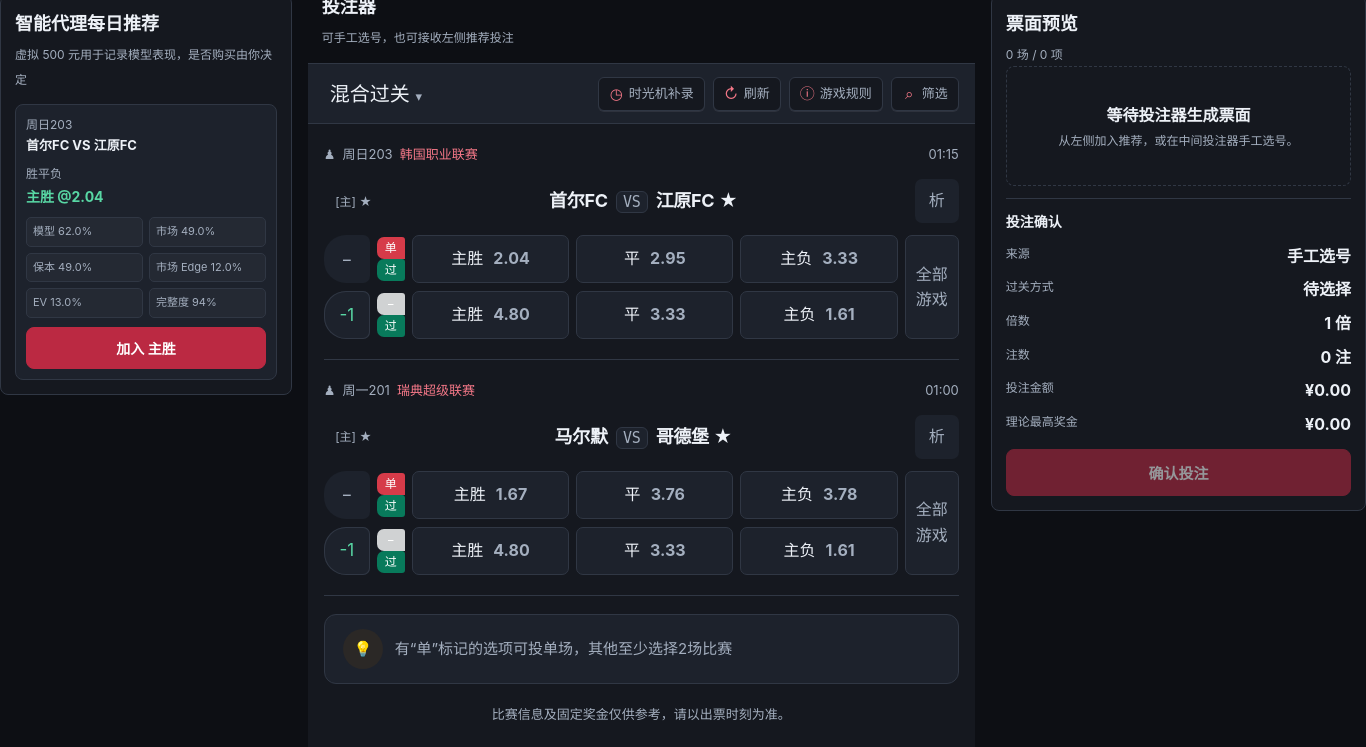
Scenario: BettingTerminalPage desktop workbench › archives a confirmed ticket and restores the default slip after completion
Step 1. Click the button with aria-label "胜平负 主胜 2.04" → click(490, 259), box [412,235,569,283]
(page scrolled)
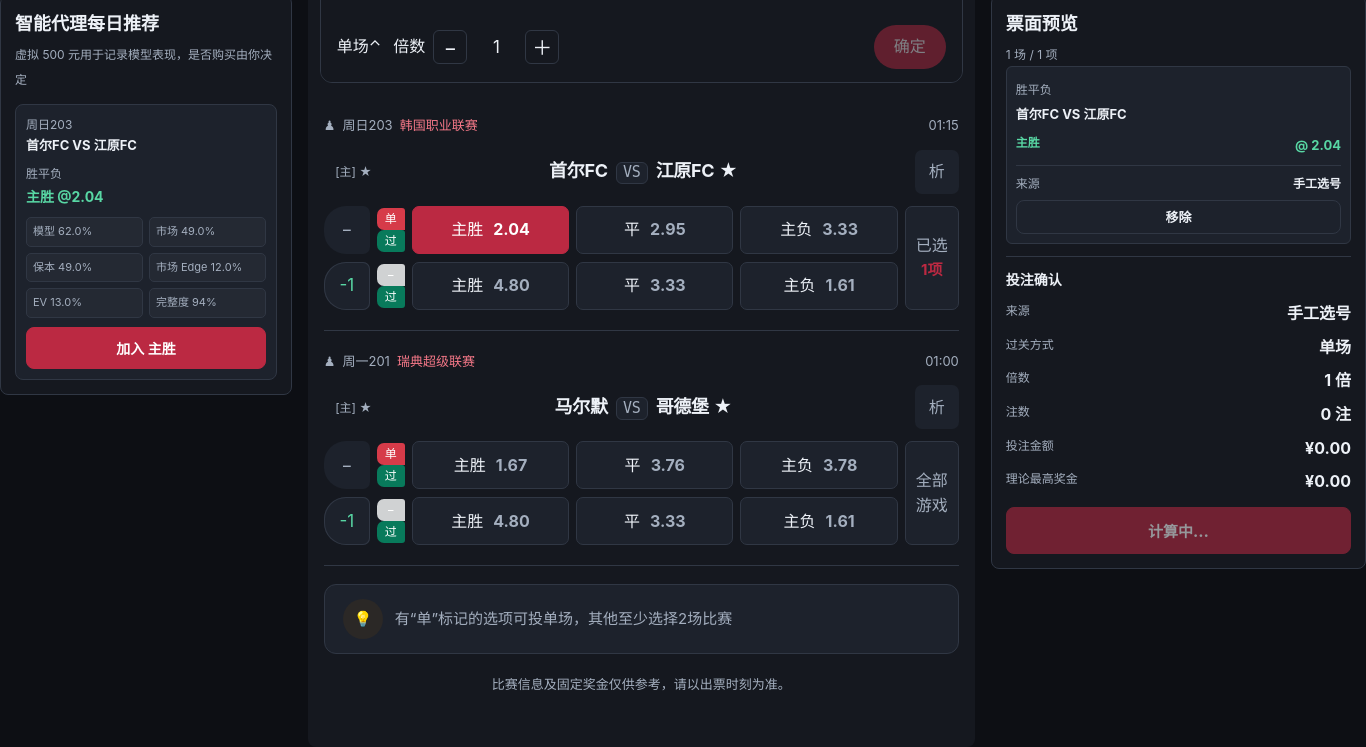
Step 2. Click the button with aria-label "胜平负 主胜 1.67" → click(490, 465), box [412,441,569,489]
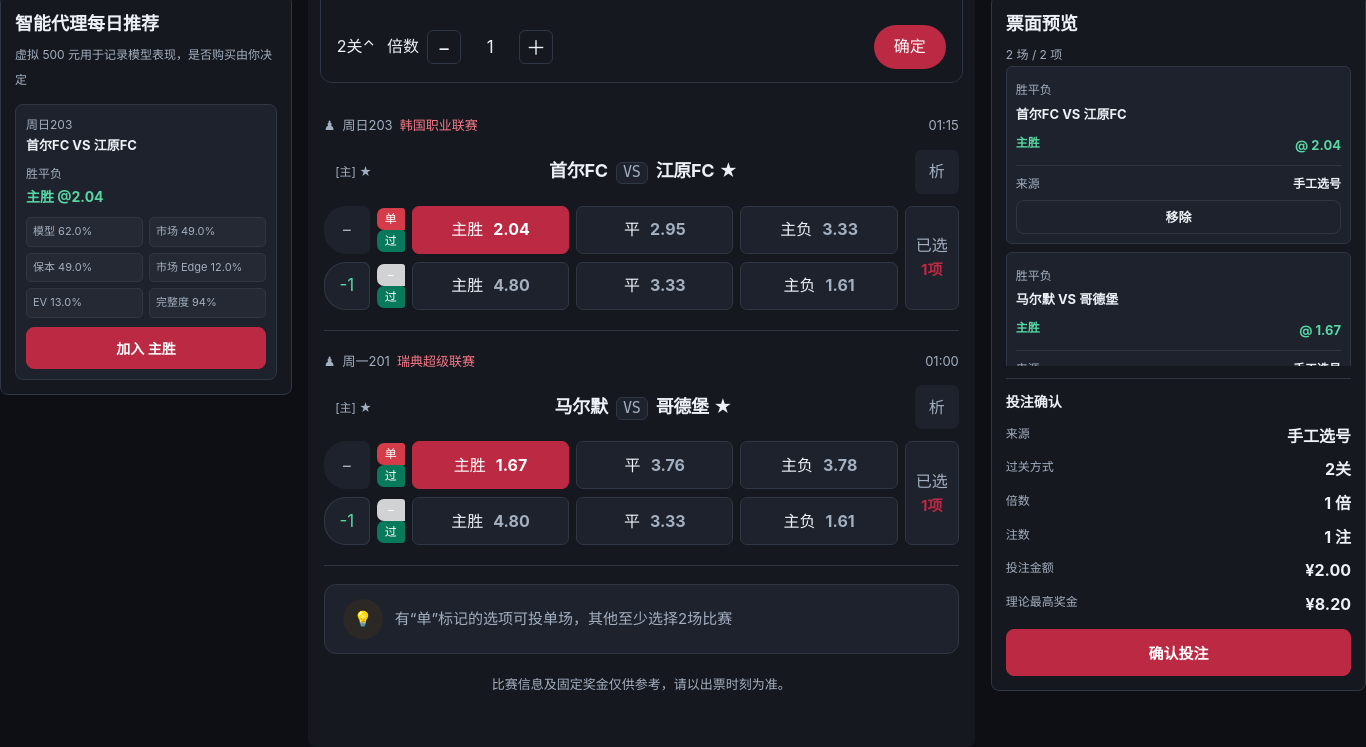
Step 3. Replace the text in the number field named "当前倍数" with "99" → (490, 47), box [469,36,511,58]
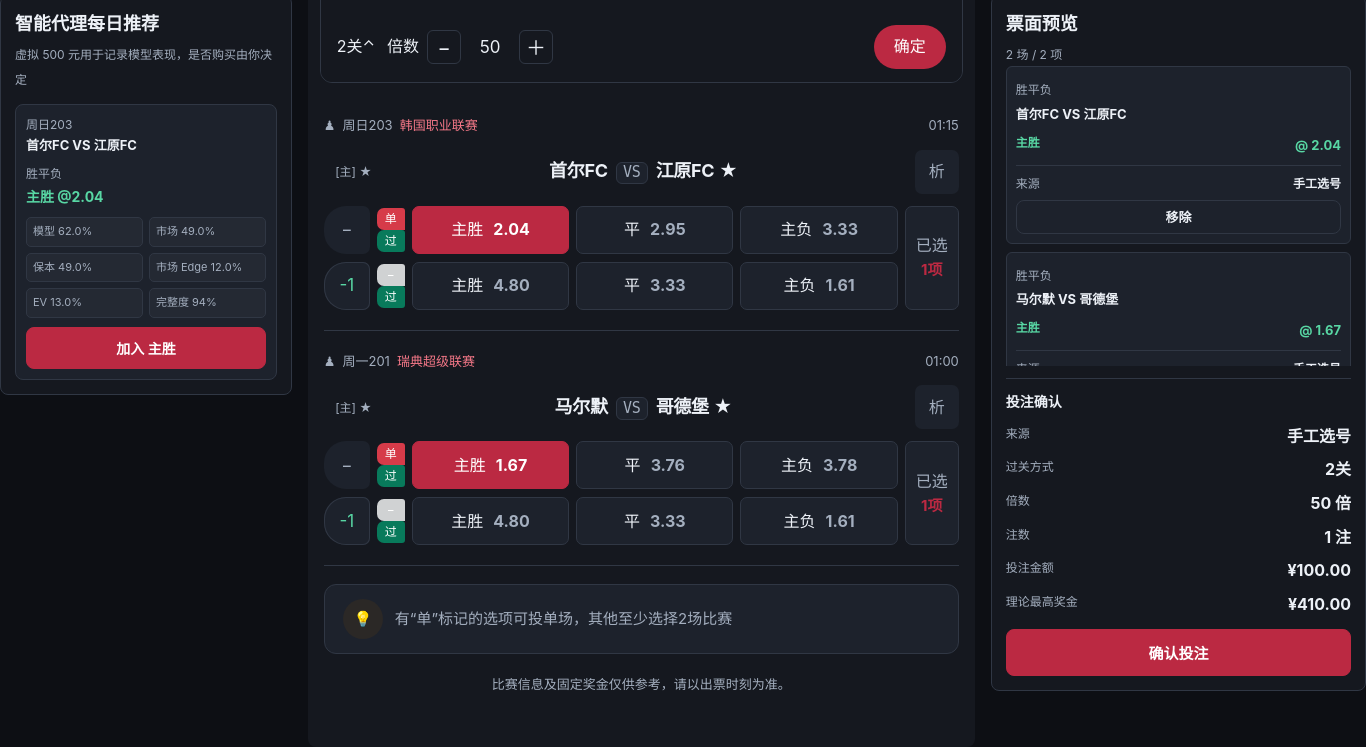
Expected: the button named "增加倍数" is disabled, [519,30,553,64]
Result: the button "确定" is enabled
Result: the number field named "当前倍数" holds "50" at [469,36,511,58]
Step 4. Click the button "确定" → click(910, 47), box [874,25,946,69]
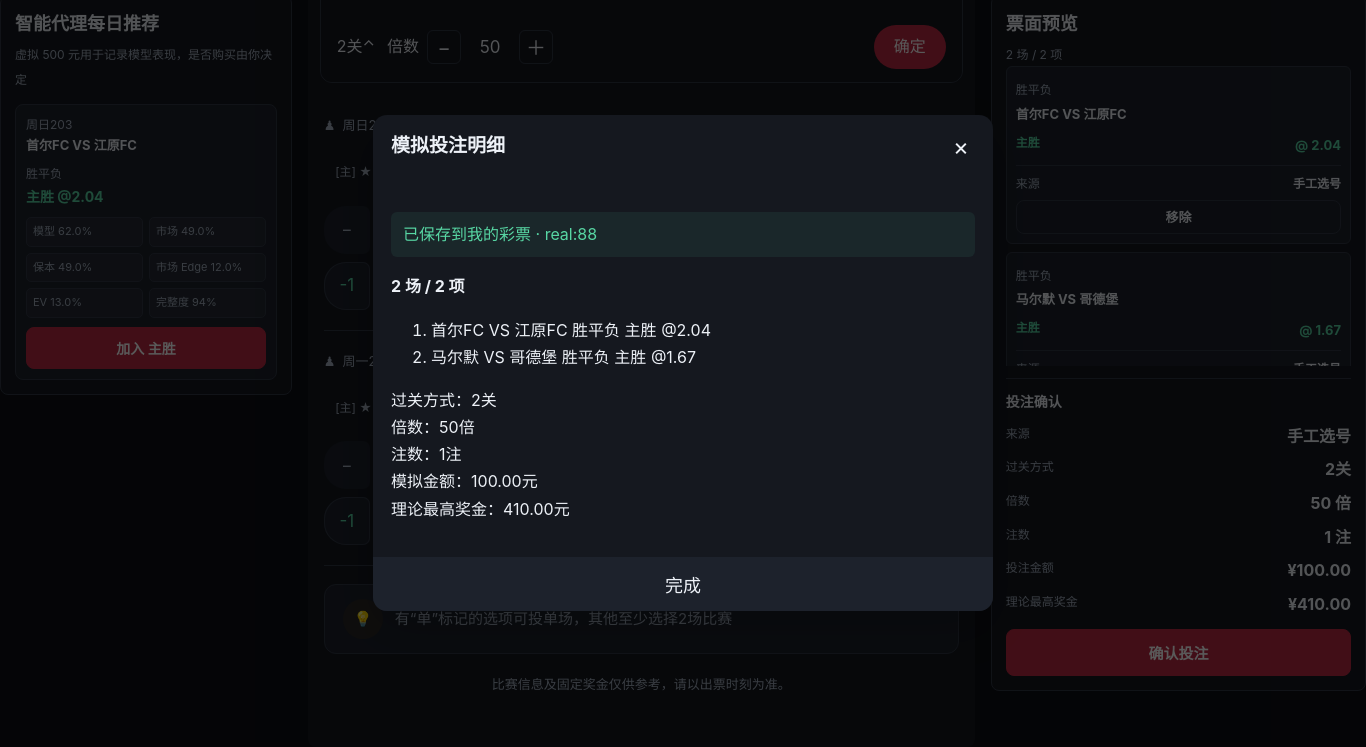
Result: the dialog "模拟投注明细" shows "已保存到我的彩票" at [403,224,531,244]
Step 5. Click the button "完成" → click(683, 584), box [373,557,993,611]
(page scrolled)
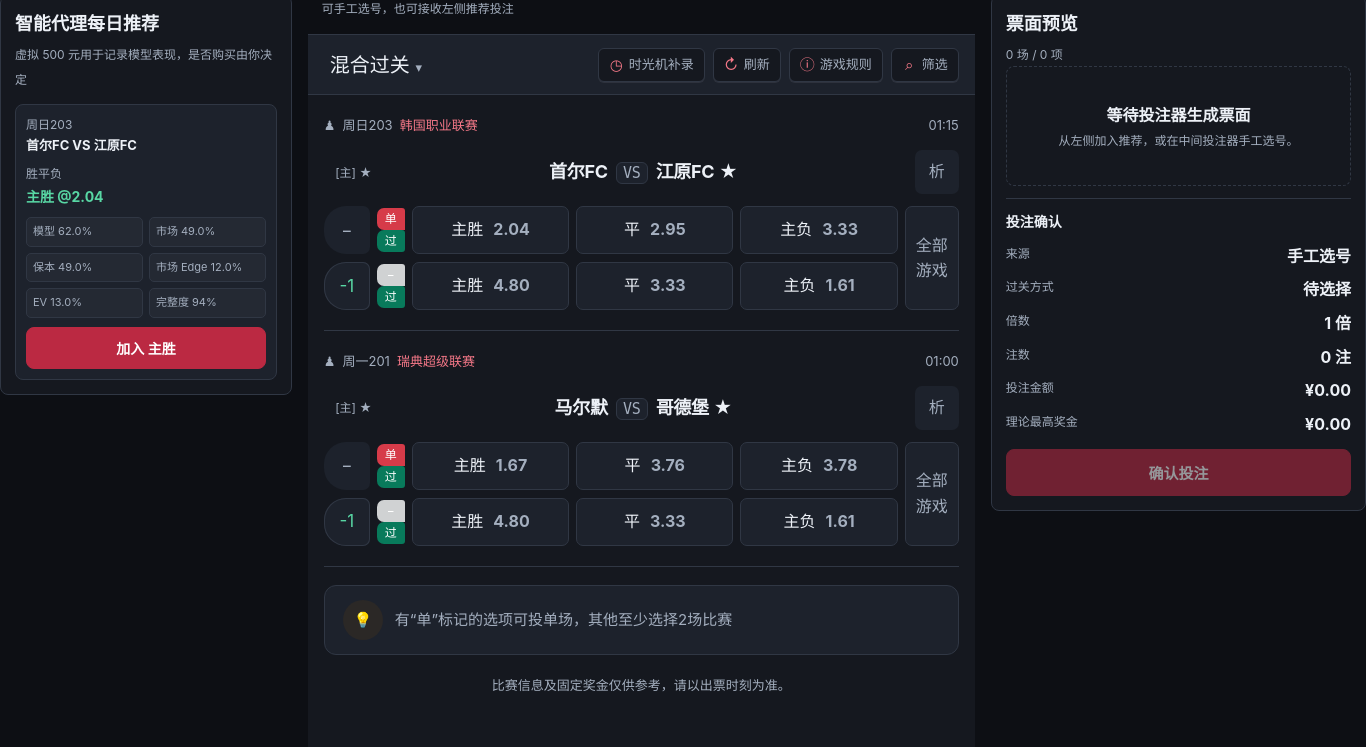
Result: the heading "模拟投注明细" is gone
Result: the text "等待投注器生成票面" is shown at [1106,105,1250,125]
Step 6. Click the button with aria-label "胜平负 主胜 2.04" → click(490, 230), box [412,206,569,254]
(page scrolled)
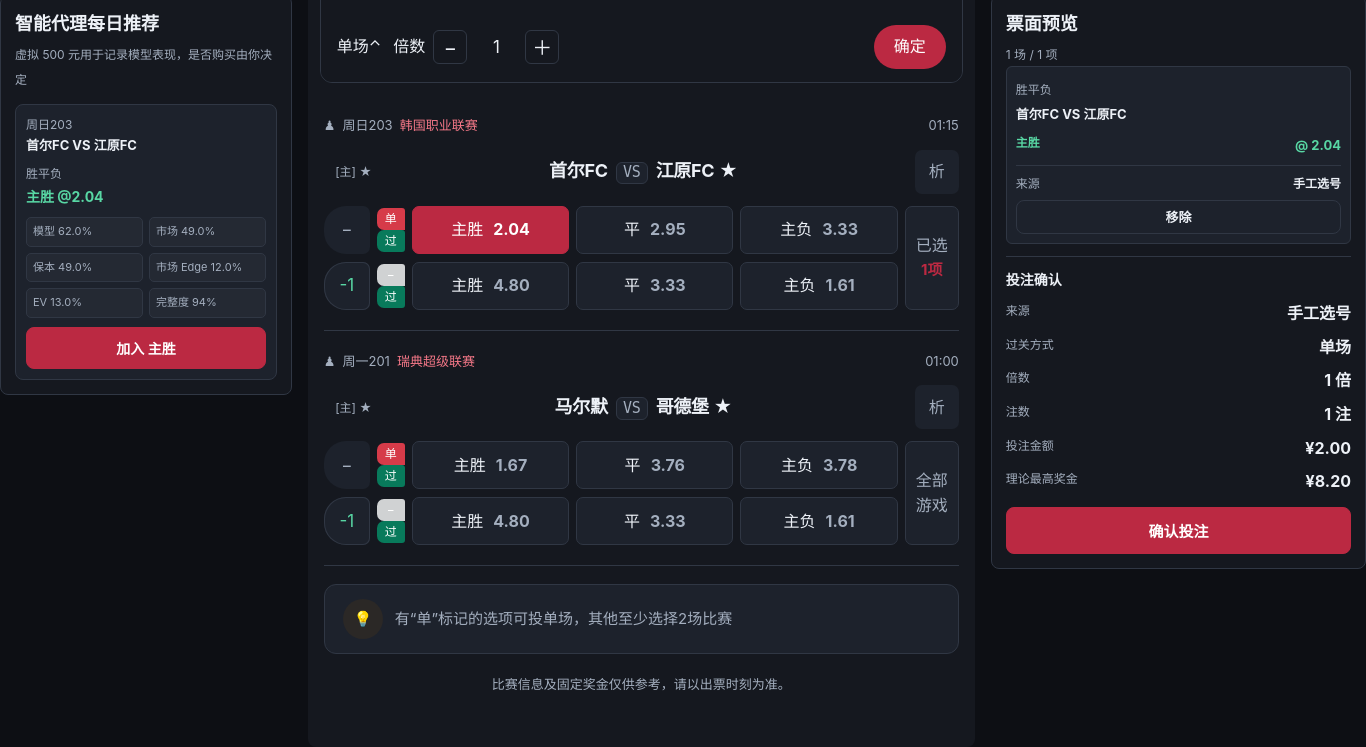
Result: the number field named "当前倍数" holds "1" at [475,36,517,58]
